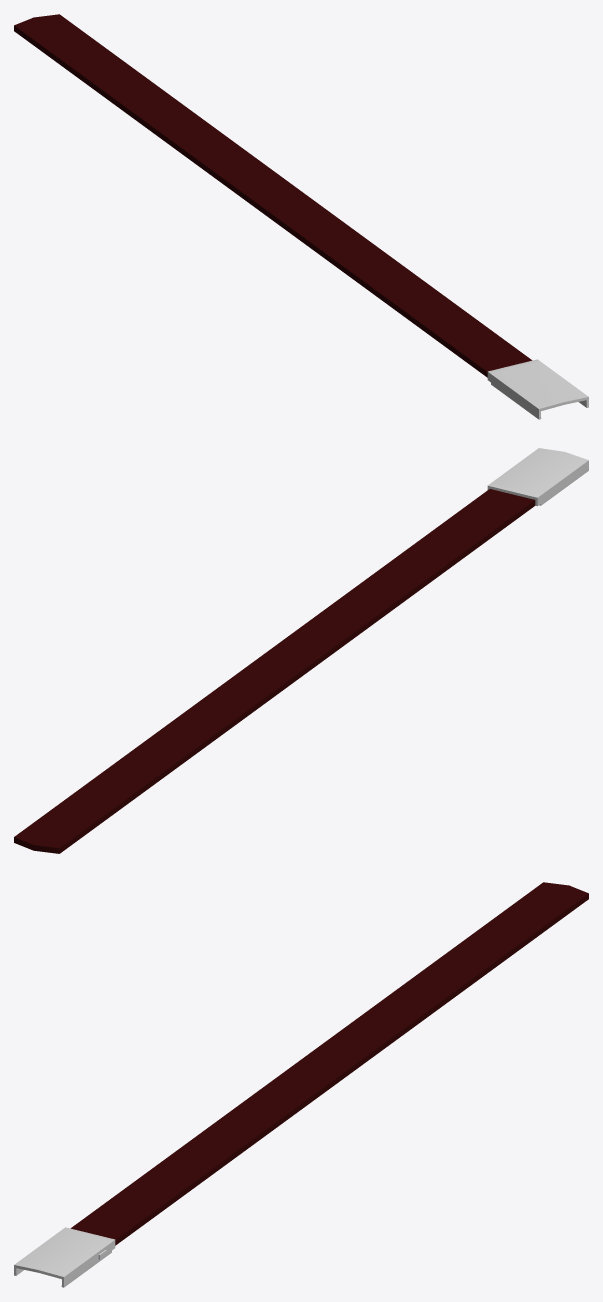
The model's file is CintoA.fbx.
3 views of the same model, one above another, from view 1: azimuth 30°, elevation 25°; view 2: azimuth 150°, elevation 25°; view 3: azimuth 330°, elevation 25° (orthographic).
Visible parts, largest first — view 1: Cinto_A; view 2: Cinto_A; view 3: Cinto_A.
Part boxes in pixels (x1,y1,x2,y2): Cinto_A: (14, 14, 588, 419); Cinto_A: (14, 448, 588, 853); Cinto_A: (14, 882, 588, 1287).
Size of the model in its own units: 4.29 by 1.01 by 76.52.
